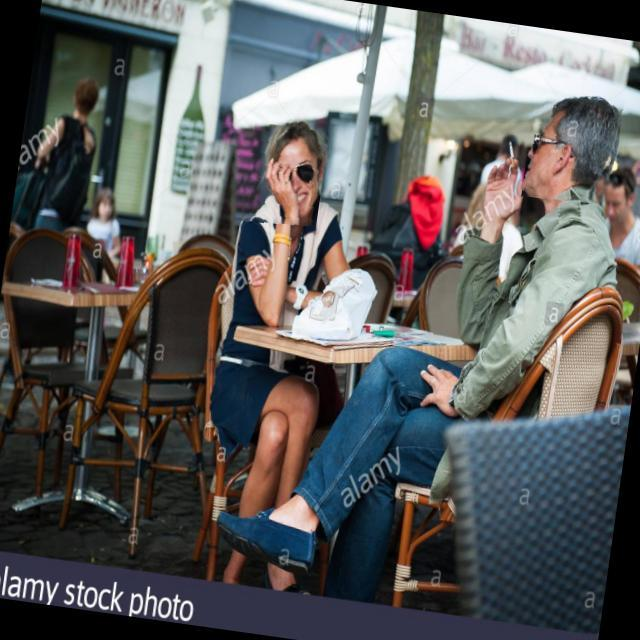cigarette: (500, 134, 526, 174)
